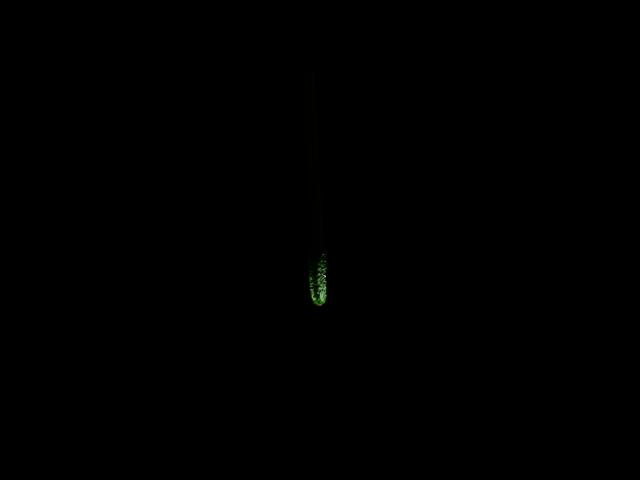cucumber: (307, 246, 330, 306)
